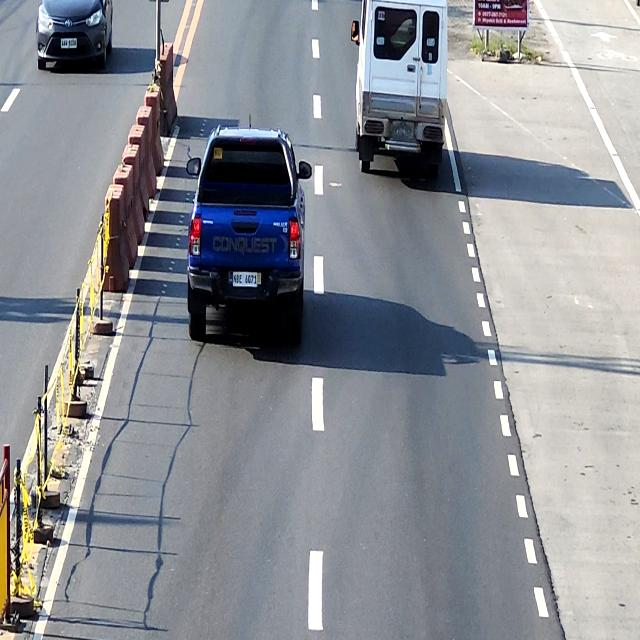Car: (186, 125, 312, 346), (350, 0, 448, 175), (36, 0, 114, 70)
License-Plate: (233, 272, 257, 288), (60, 38, 77, 48)
